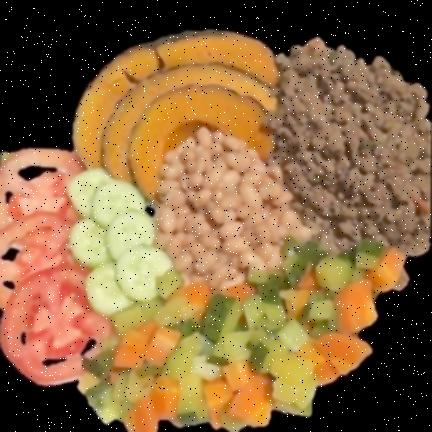beans: (154, 129, 306, 288)
carrot: (298, 249, 402, 385)
cucumber: (68, 169, 170, 315)
green_vegetables: (78, 240, 384, 424)
meat: (268, 38, 430, 255)
